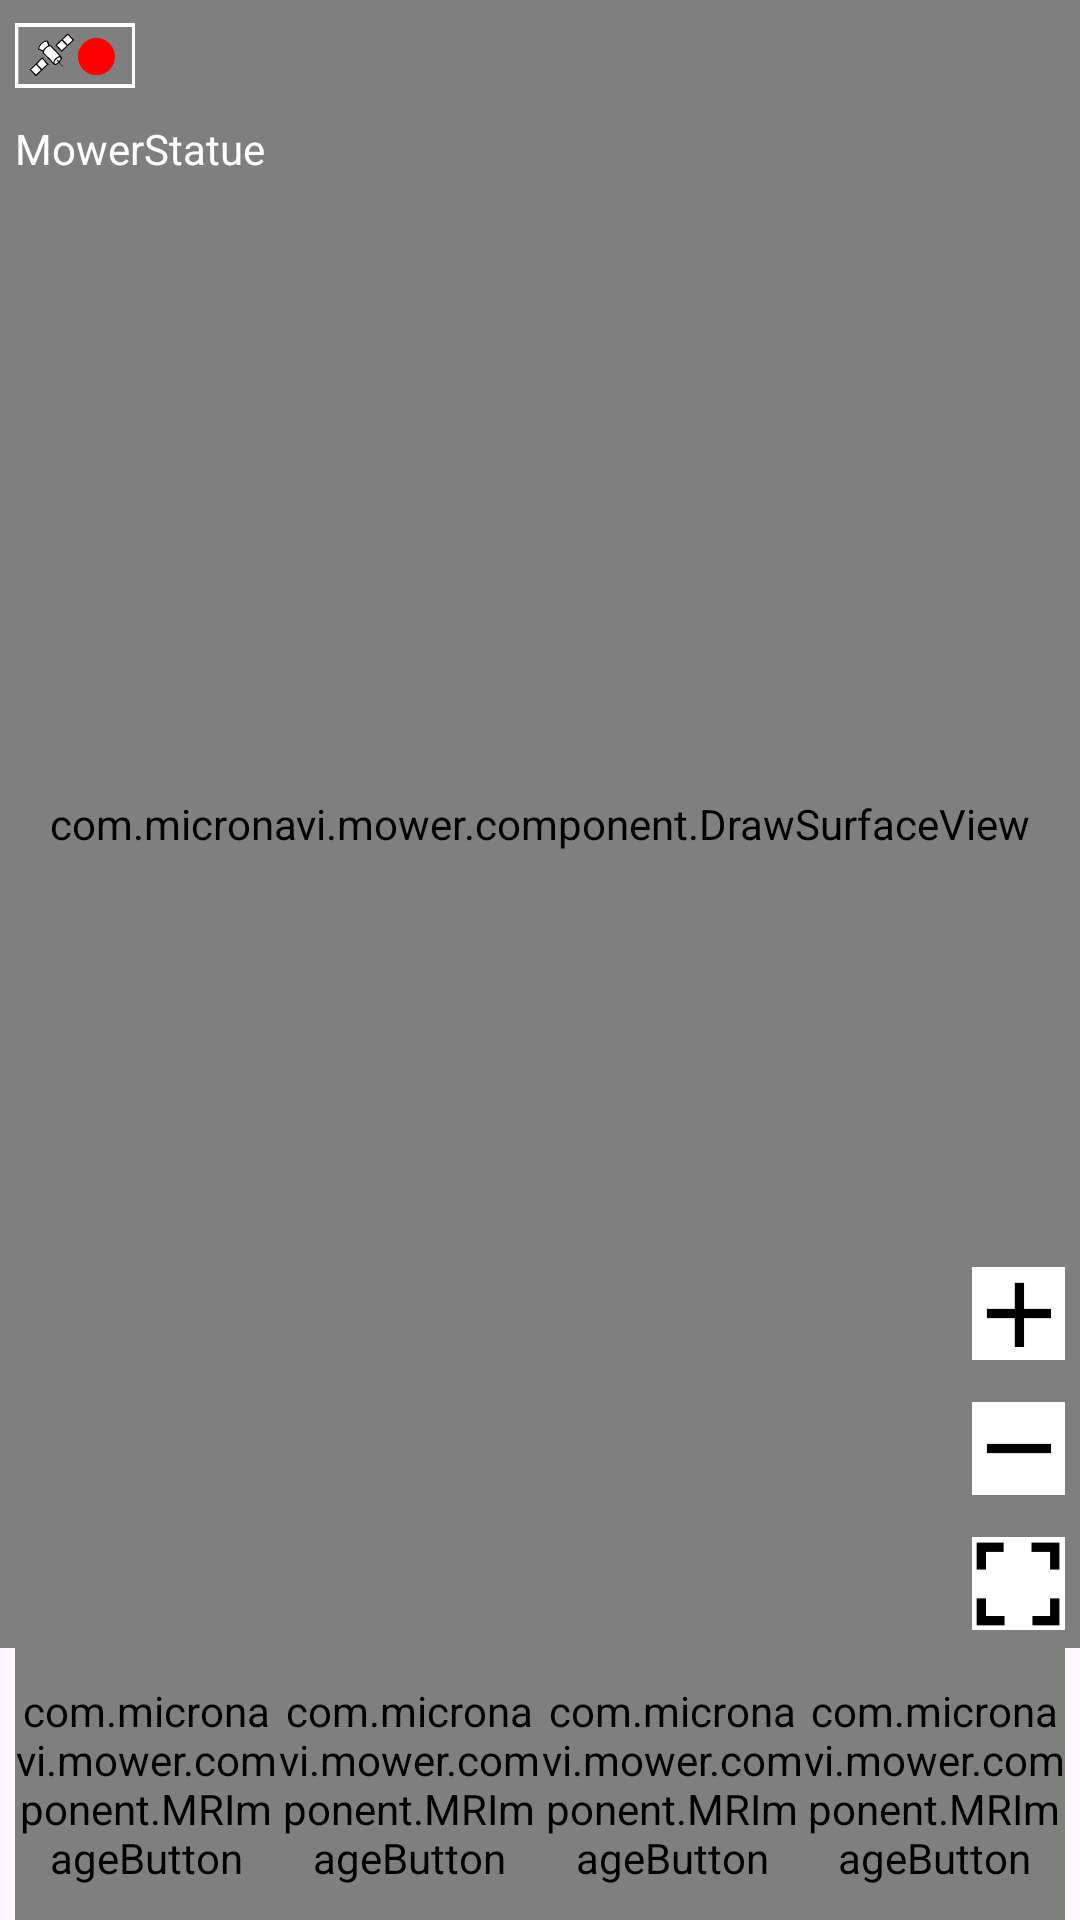

Named icons in this screenshot (1080px×1920px) and their bounding boxes, bbox=(x1, y1, x2, y2):
zoomin: bbox=(972, 1267, 1065, 1360)
zoommax: bbox=(972, 1537, 1065, 1630)
zoomout: bbox=(972, 1402, 1065, 1495)
